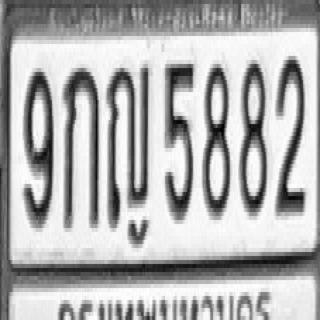A01: (63, 64, 98, 228)
A13: (106, 62, 150, 226)
N02: (275, 54, 304, 214)
N05: (164, 60, 194, 220)
N08: (202, 60, 230, 216), (239, 58, 267, 214)
N09: (23, 68, 53, 224)
